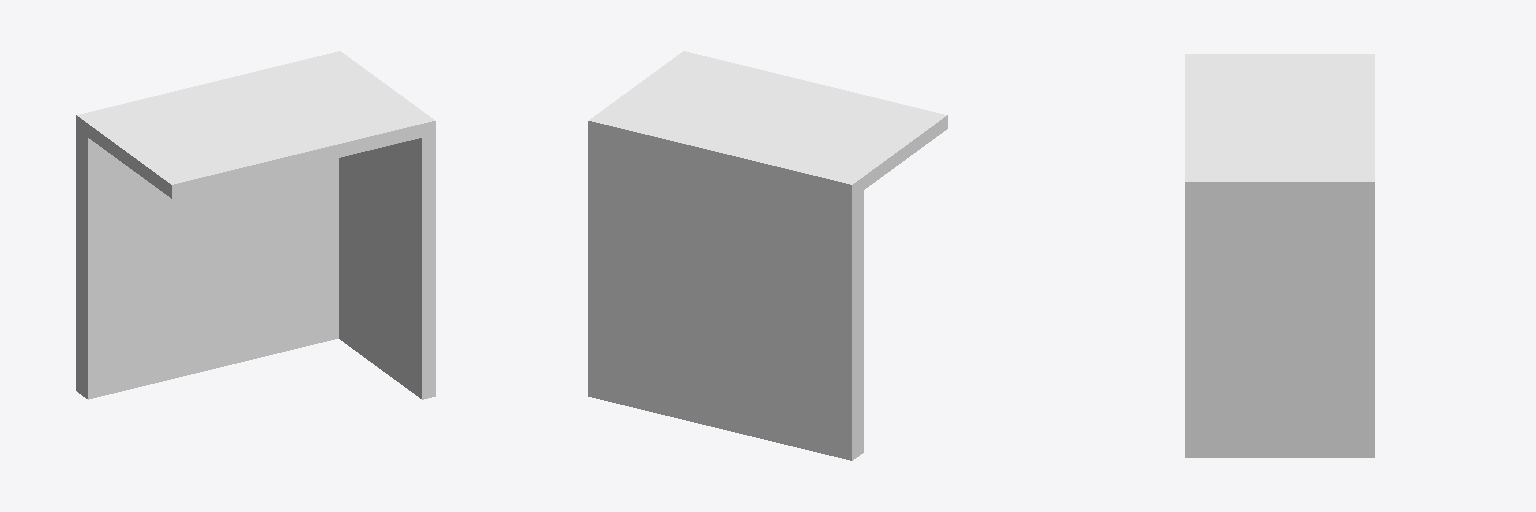
The model's file is entrance5-0-lod3.obj.
The picture shows the model from 3 angles: view 1: azimuth 30°, elevation 25°; view 2: azimuth 150°, elevation 25°; view 3: azimuth 270°, elevation 25°; orthographic projection.
Parts seen in each view (by area): view 1: lod3; view 2: lod3; view 3: lod3.
Part boxes in pixels (bbox=[...]): lod3: bbox=[76, 51, 435, 399]; lod3: bbox=[588, 51, 947, 460]; lod3: bbox=[1185, 54, 1374, 457].
Size of the model in its own units: 16 by 16 by 10.